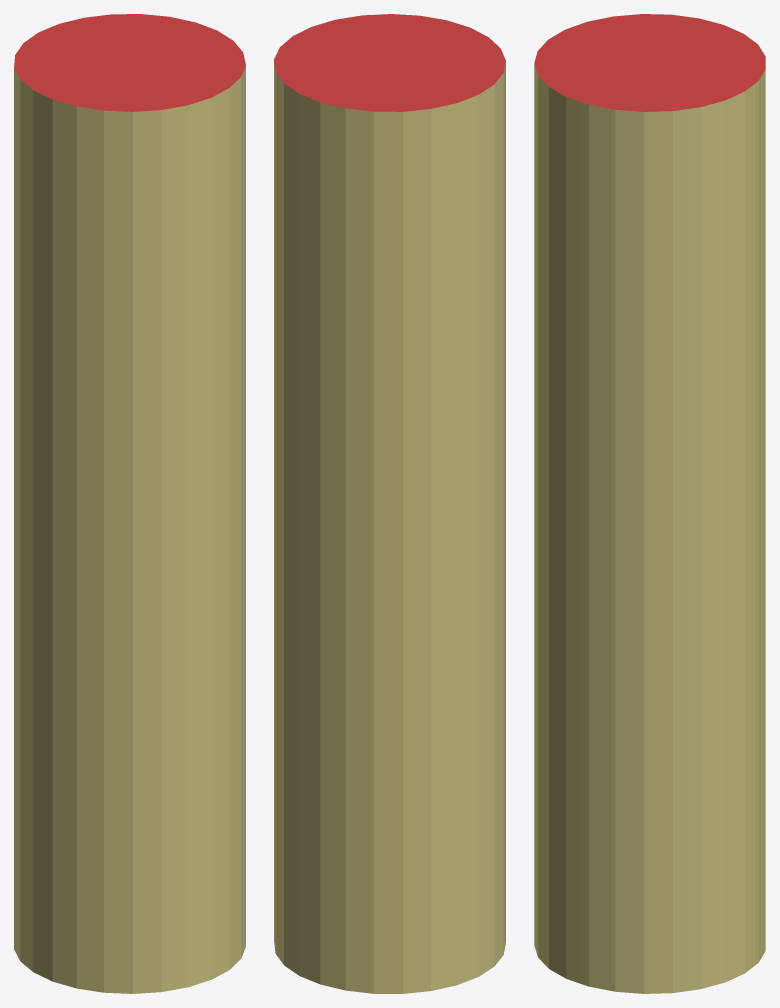
The picture shows the model from 3 angles, left to right: view 1: azimuth 30°, elevation 25°; view 2: azimuth 150°, elevation 25°; view 3: azimuth 270°, elevation 25°; orthographic projection.
Size of the model in its own units: 2.14 by 2.14 by 8.98.
